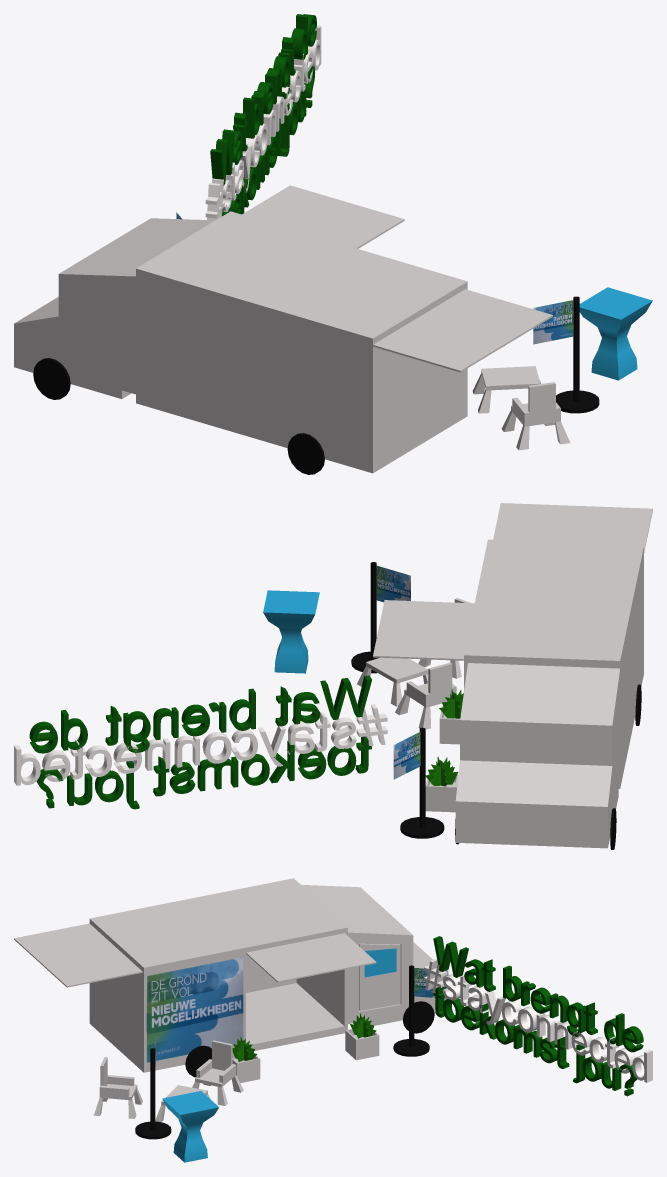
The model's file is Future_V02.FBX.
3 renders of one model, top to bottom at view 1: azimuth 30°, elevation 25°; view 2: azimuth 150°, elevation 25°; view 3: azimuth 270°, elevation 25°, orthographic. The views are drawn at different scales.
Parts seen in each view (by area): view 1: Box022, Text001, Text002, Box028, Box024, Box023, Group003, Cylinder044, Cylinder043, Cylinder045, Cylinder046; view 2: Box022, Text001, Text002, Box028, Box025, Box023, Group003, Group004, Box027, Cylinder047, Cylinder048, Cylinder046 (+1 smaller); view 3: Box022, Text001, Object001, Text002, Box028, Box025, Box024, Box027, Object002, Cylinder042, Box026, Cylinder041 (+5 smaller).
Boxes of the visible parts, x1=… form: Box022: x1=14, y1=185, x2=552, y2=473; Text001: x1=210, y1=14, x2=316, y2=216; Text002: x1=205, y1=25, x2=321, y2=220; Box028: x1=579, y1=287, x2=652, y2=380; Box024: x1=501, y1=382, x2=570, y2=450; Box023: x1=472, y1=366, x2=541, y2=413; Group003: x1=533, y1=300, x2=573, y2=344; Cylinder044: x1=33, y1=358, x2=70, y2=399; Cylinder043: x1=287, y1=433, x2=324, y2=474; Cylinder045: x1=556, y1=390, x2=599, y2=413; Cylinder046: x1=573, y1=296, x2=579, y2=401; Box022: x1=373, y1=503, x2=652, y2=848; Text001: x1=29, y1=675, x2=371, y2=809; Text002: x1=14, y1=704, x2=387, y2=785; Box028: x1=263, y1=590, x2=319, y2=673; Box025: x1=395, y1=662, x2=456, y2=729; Box023: x1=357, y1=657, x2=428, y2=706; Group003: x1=376, y1=565, x2=410, y2=602; Group004: x1=393, y1=731, x2=420, y2=779; Box027: x1=425, y1=773, x2=458, y2=812; Cylinder047: x1=400, y1=817, x2=444, y2=838; Cylinder048: x1=419, y1=727, x2=425, y2=827; Cylinder046: x1=370, y1=562, x2=376, y2=660; Box022: x1=14, y1=878, x2=449, y2=1072; Text001: x1=433, y1=936, x2=643, y2=1096; Object001: x1=146, y1=957, x2=243, y2=1062; Text002: x1=424, y1=958, x2=652, y2=1082; Box028: x1=162, y1=1091, x2=219, y2=1162; Box025: x1=192, y1=1040, x2=243, y2=1105; Box024: x1=94, y1=1057, x2=142, y2=1118; Box027: x1=345, y1=1029, x2=379, y2=1060; Object002: x1=364, y1=948, x2=396, y2=977; Cylinder042: x1=403, y1=1001, x2=434, y2=1033; Box026: x1=232, y1=1052, x2=260, y2=1082; Cylinder041: x1=185, y1=1045, x2=211, y2=1077.
Size of the model in its own units: 697 by 218 by 993.
6 materials, 1 textured.
